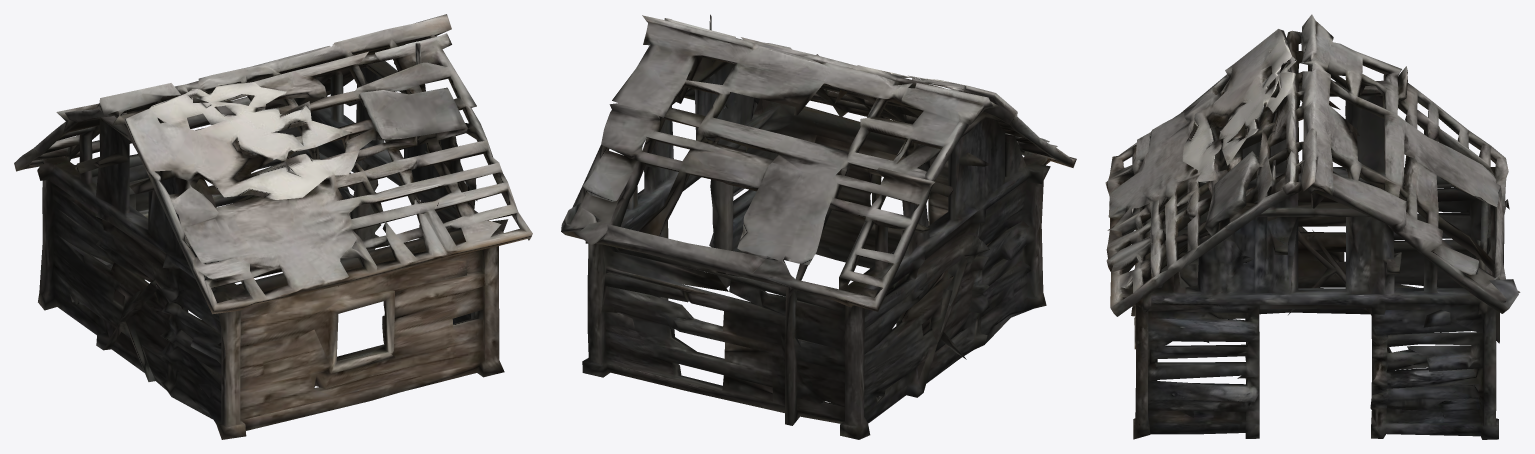
Rendered from ul_barn_small.glb.
3 views of the same model, side by side, from view 1: azimuth 30°, elevation 25°; view 2: azimuth 150°, elevation 25°; view 3: azimuth 270°, elevation 25° (orthographic). The views are drawn at different scales.
Parts seen in each view (by area): view 1: tripo_node_c86cd353-714a-46ac-9b05-7bb9b682664f; view 2: tripo_node_c86cd353-714a-46ac-9b05-7bb9b682664f; view 3: tripo_node_c86cd353-714a-46ac-9b05-7bb9b682664f.
Part boxes in pixels (left/top/right/bottom): tripo_node_c86cd353-714a-46ac-9b05-7bb9b682664f: left=14, top=14, right=532, bottom=439; tripo_node_c86cd353-714a-46ac-9b05-7bb9b682664f: left=561, top=14, right=1076, bottom=439; tripo_node_c86cd353-714a-46ac-9b05-7bb9b682664f: left=1105, top=14, right=1520, bottom=439.
Size of the model in its own units: 0.9491 by 0.7397 by 1.
Materials: 1 (1 with a texture image).
